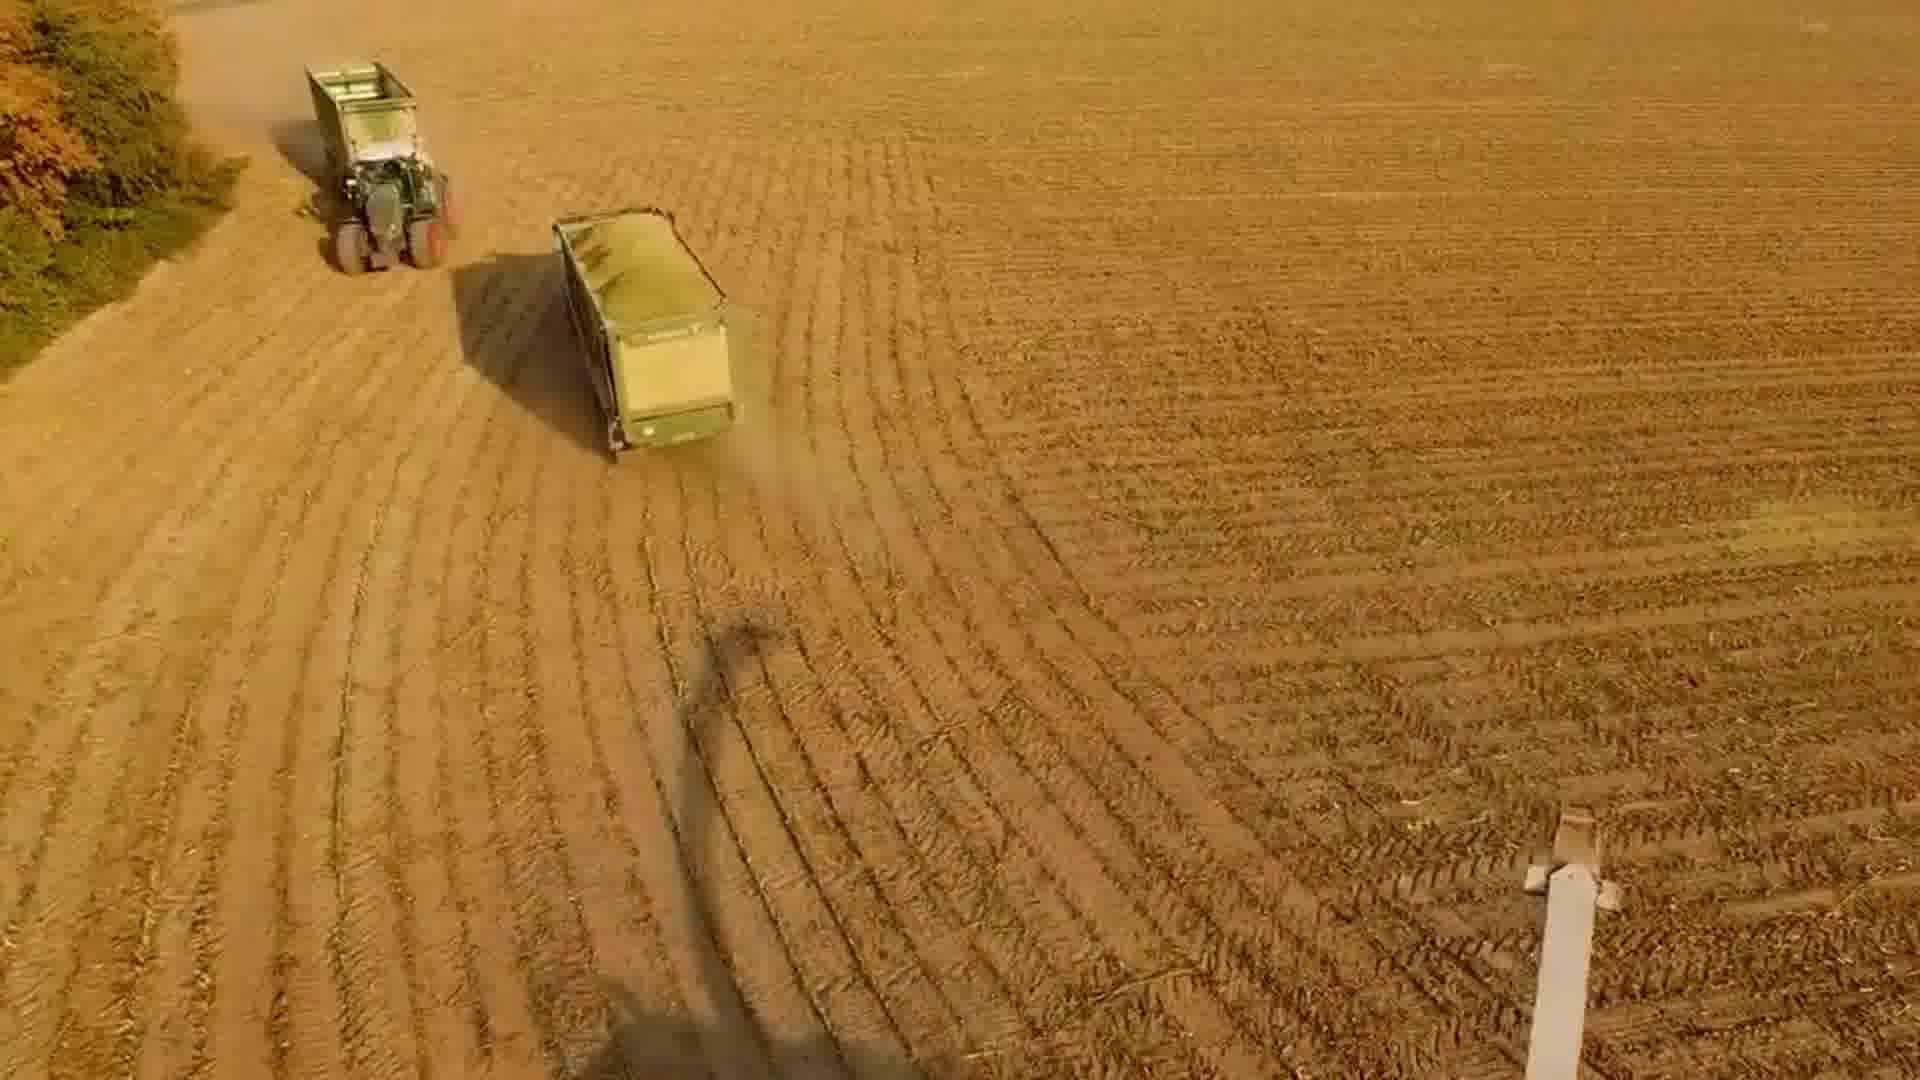tractor: (327, 140, 458, 276)
trailer: (537, 190, 744, 469), (302, 50, 427, 165)
